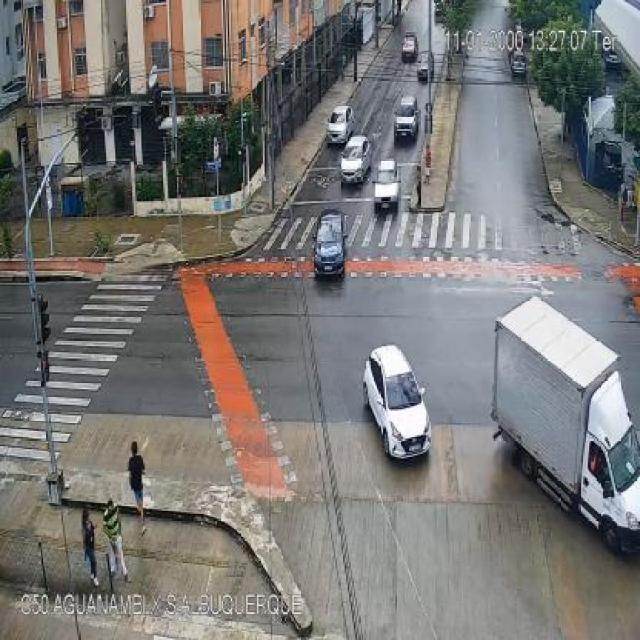Car: (361, 345, 434, 462), (312, 209, 347, 278), (339, 135, 372, 183), (372, 161, 400, 209), (326, 105, 356, 145), (394, 96, 420, 139), (401, 35, 418, 64), (417, 51, 434, 80), (510, 52, 528, 78)
Truck: (489, 298, 640, 557)
